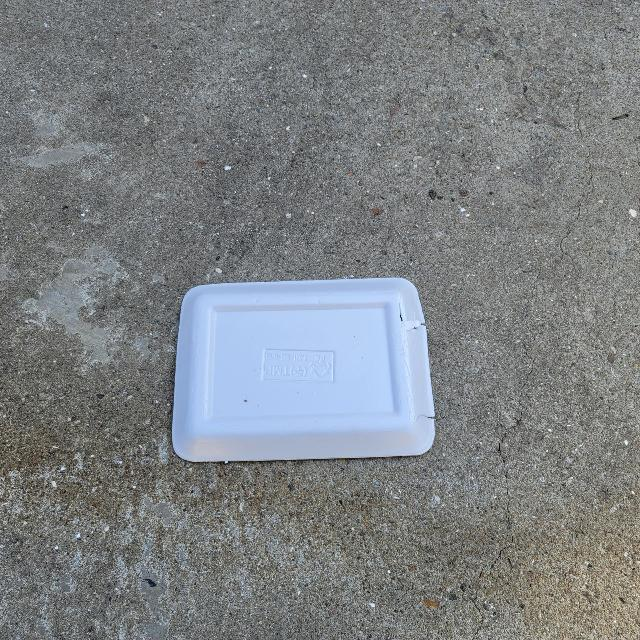Plastico descartable: (171, 278, 437, 465)
